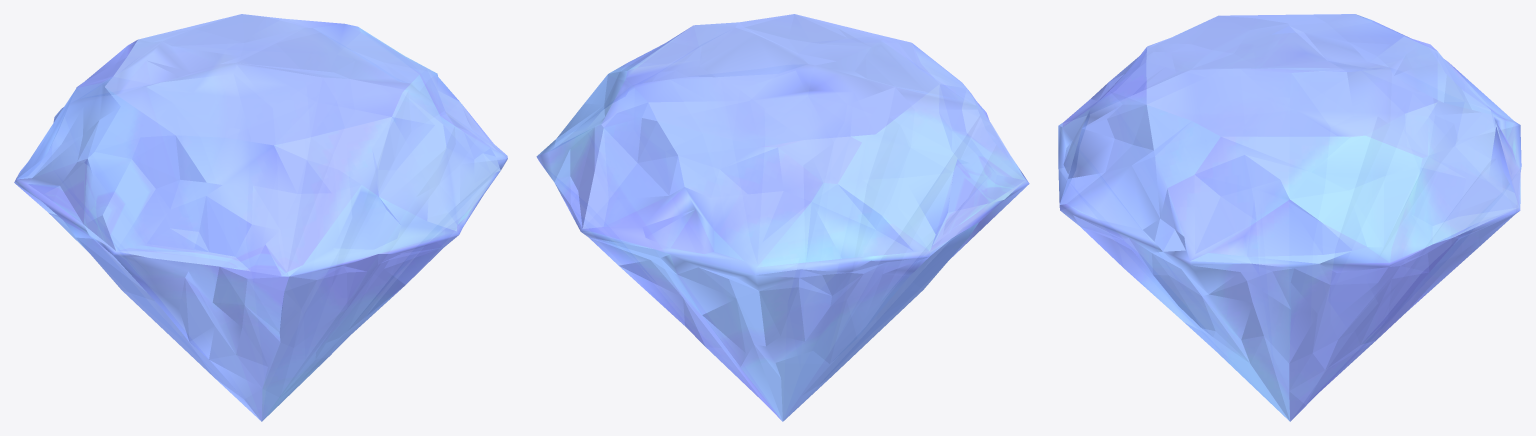
Rendered from diamond.glb.
3 renders of one model, left to right at view 1: azimuth 30°, elevation 25°; view 2: azimuth 150°, elevation 25°; view 3: azimuth 270°, elevation 25°, orthographic.
Visible parts, largest first — view 1: mesh; view 2: mesh; view 3: mesh.
Part boxes in pixels (x1,y1,x2,y2): mesh: (14,14,507,421); mesh: (536,14,1029,421); mesh: (1058,14,1521,421).
Size of the model in its own units: 0.9975 by 0.8369 by 0.9995.
Materials: 1 (1 with a texture image).
